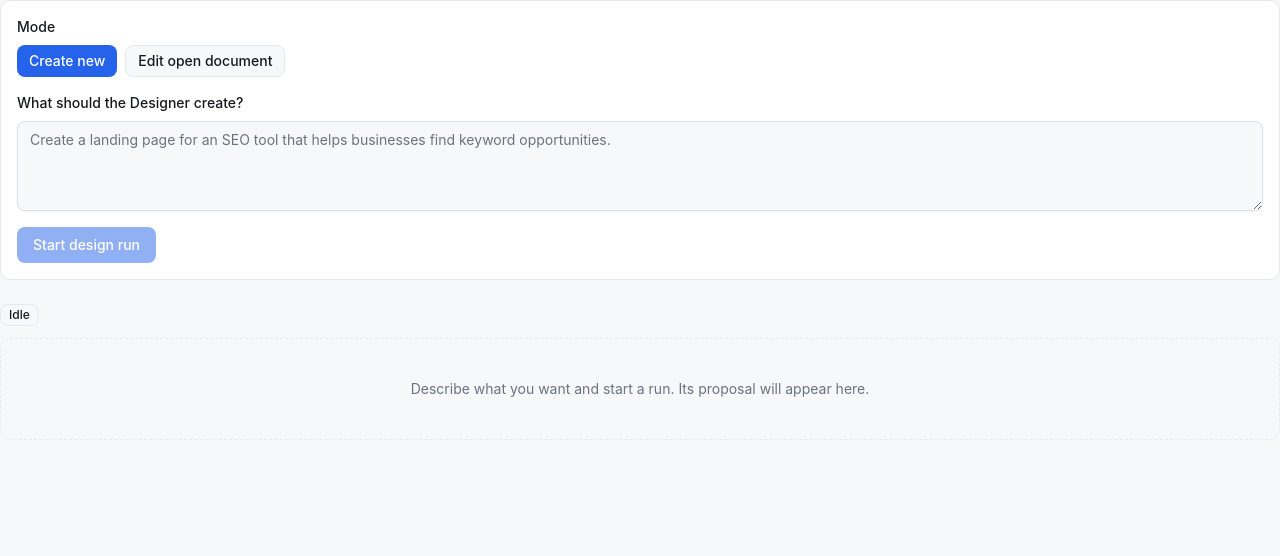
DesignerMode › binds the Designer to the shared open document and its live revision
Click the button "Edit open document". click: [205, 61]
box: [125,45,285,77]
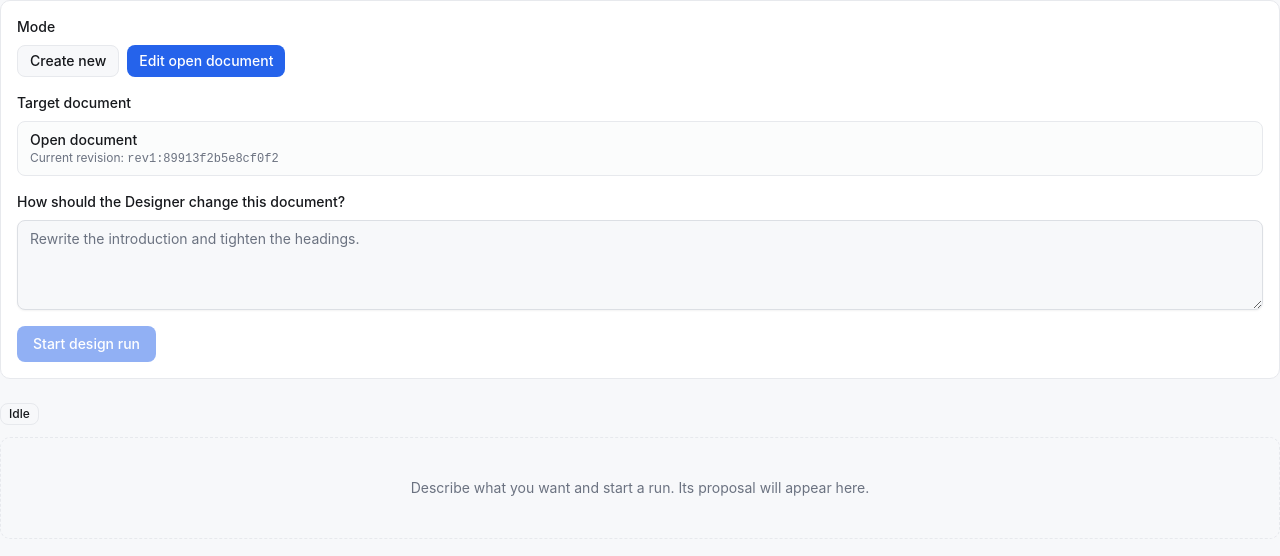
Now the text "Open document" is shown, box [30,131,137,148]
